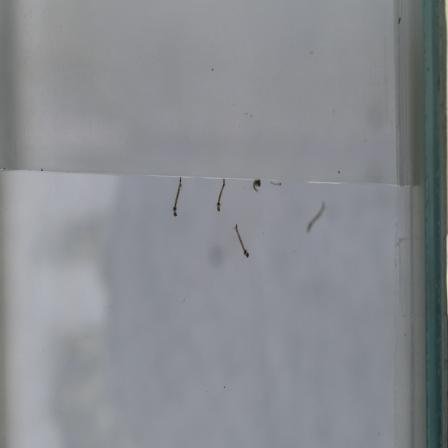Jentik-Nyamuk: (168, 174, 186, 221), (232, 223, 252, 262), (211, 174, 230, 215), (247, 175, 264, 192), (267, 176, 285, 191)
